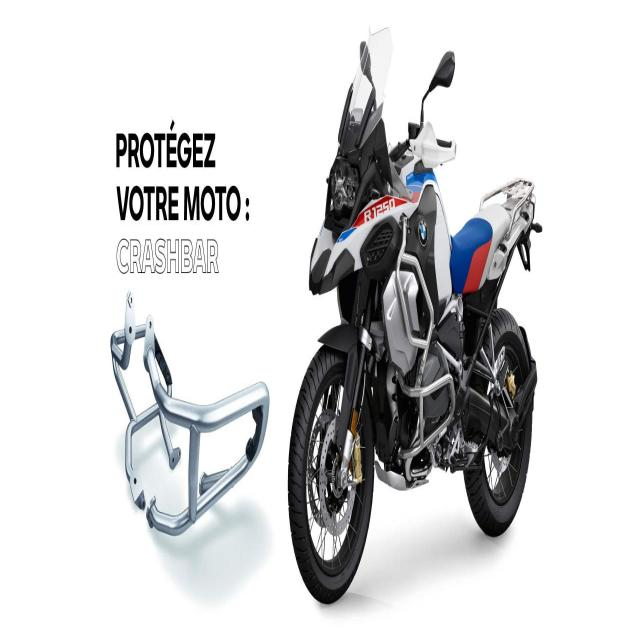Motorcycle: (288, 26, 540, 601)
